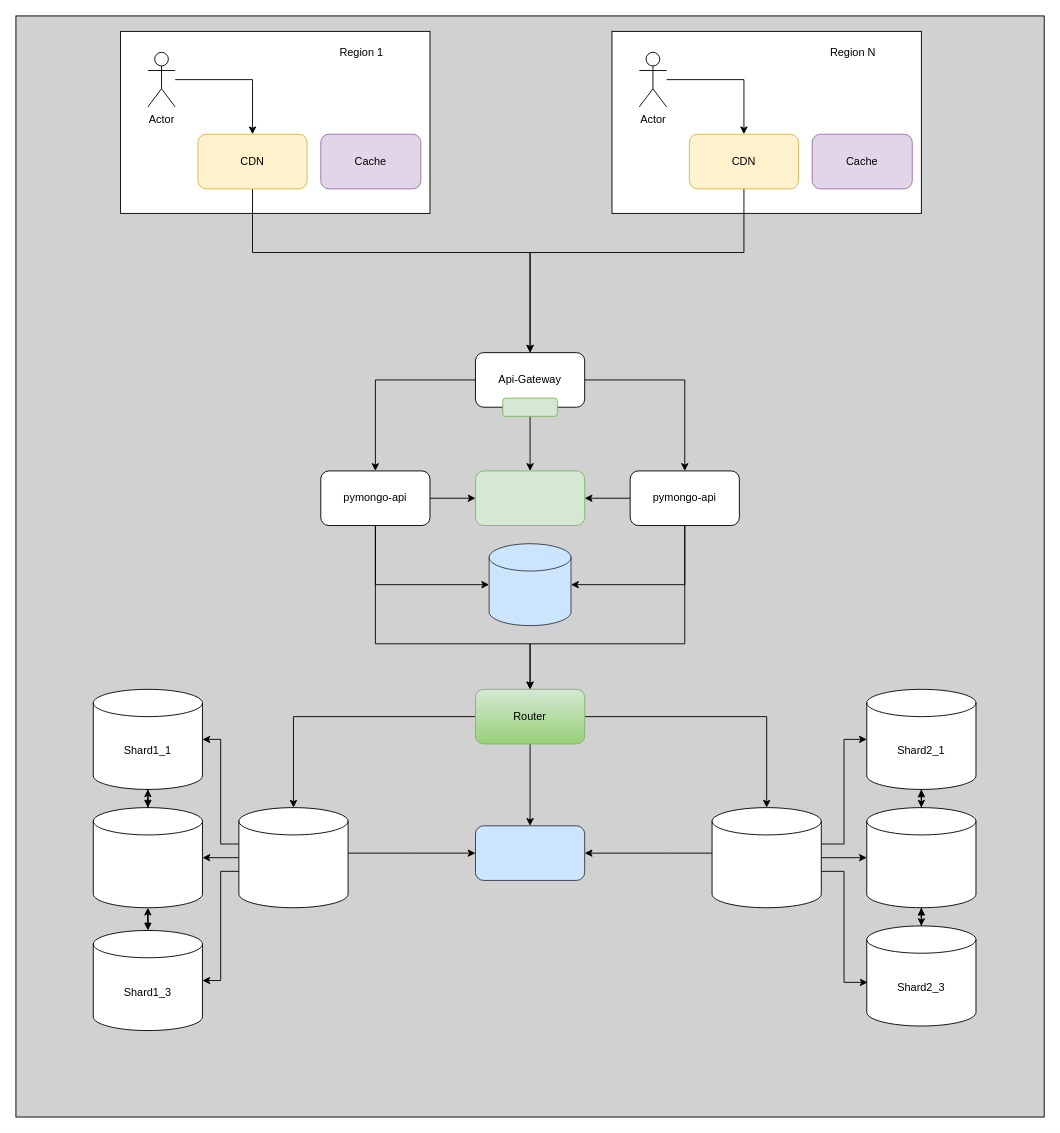
Image size: 1060x1133. Some labels were removed from this diagram. Each missing label, with the centre of its shape:
Configuration service: (x=530, y=852)
Consul: (x=530, y=498)
consul_kv: (x=529, y=406)
Redis: (x=529, y=584)
Shard1: (x=293, y=857)
Shard1_2: (x=147, y=857)
Shard2: (x=766, y=857)
Shard2_2: (x=921, y=857)
